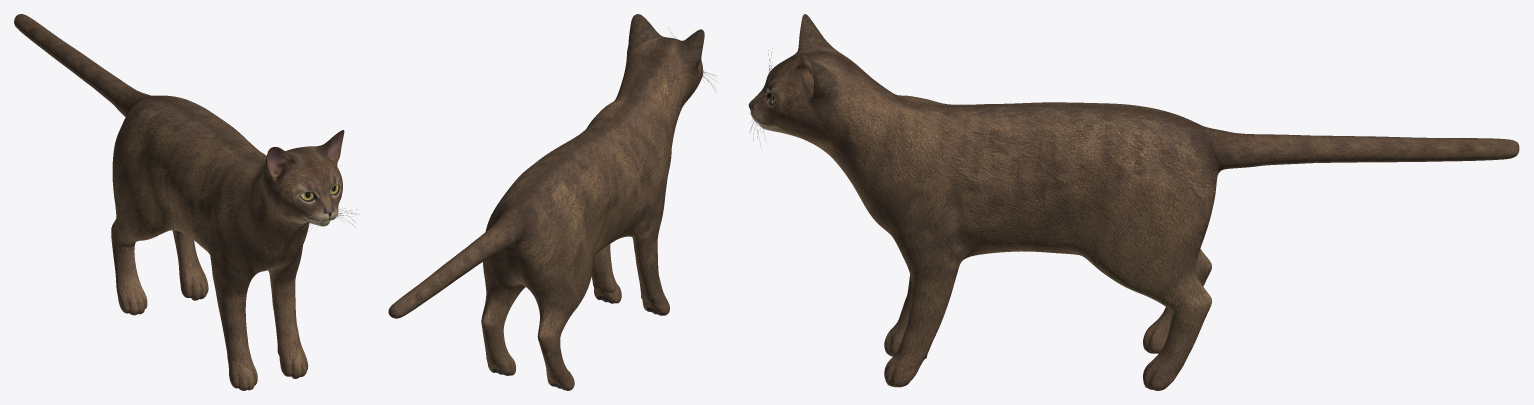
Rendered from realistic_cat_-_pets_for_your_project.glb.
The picture shows the model from 3 angles, left to right: view 1: azimuth 30°, elevation 25°; view 2: azimuth 150°, elevation 25°; view 3: azimuth 270°, elevation 25°; orthographic projection. The views are drawn at different scales.
Parts seen in each view (by area): view 1: blMilCatobjcleanermaterialmergergles; view 2: blMilCatobjcleanermaterialmergergles; view 3: blMilCatobjcleanermaterialmergergles.
Part boxes in pixels (left/top/right/bottom): blMilCatobjcleanermaterialmergergles: left=14, top=14, right=359, bottom=390; blMilCatobjcleanermaterialmergergles: left=388, top=14, right=718, bottom=390; blMilCatobjcleanermaterialmergergles: left=748, top=14, right=1519, bottom=390.
Size of the model in its own units: 0.1372 by 0.3938 by 0.8205.
15 materials, 15 textured.
